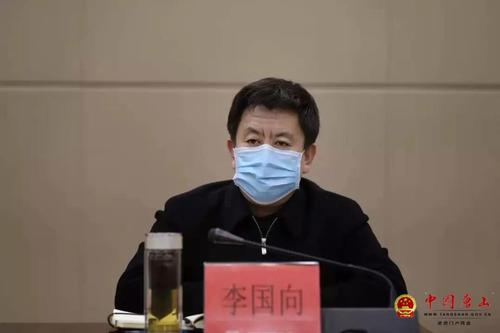Mask: (230, 101, 307, 203)
